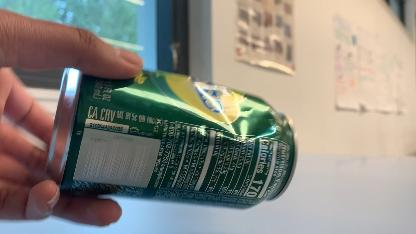Can: (42, 63, 298, 209)
